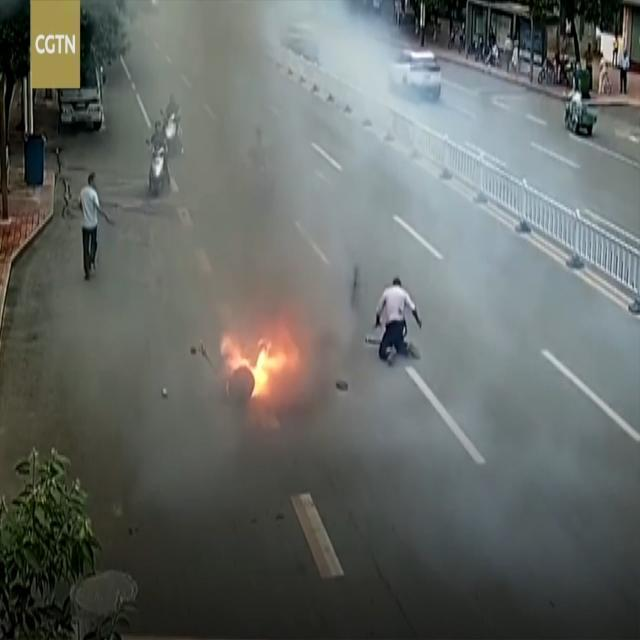fire: (216, 315, 304, 414)
